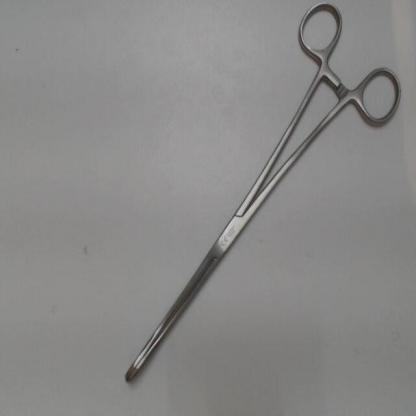Sponge Forceps: (118, 2, 406, 390)
